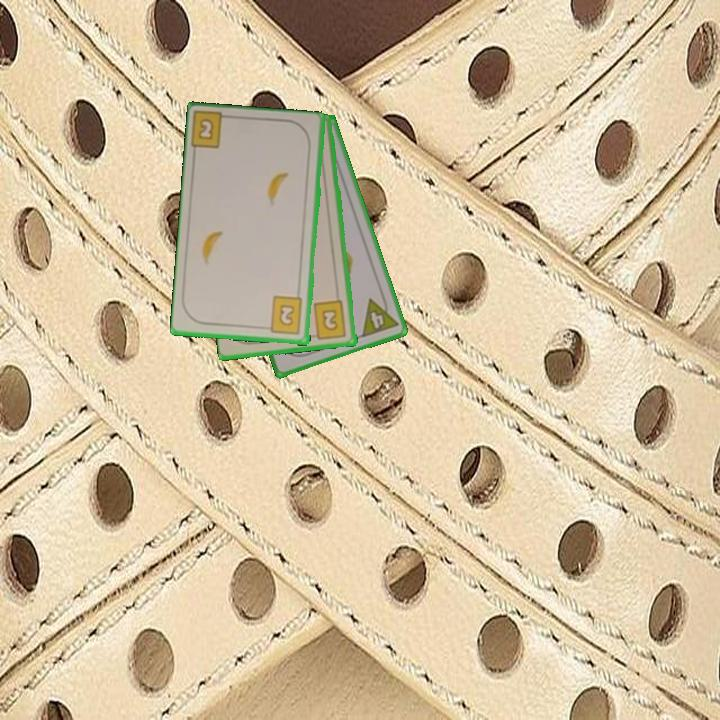2b: (189, 110, 236, 152), (261, 293, 305, 337), (307, 298, 349, 342)
4p: (358, 291, 401, 340)
